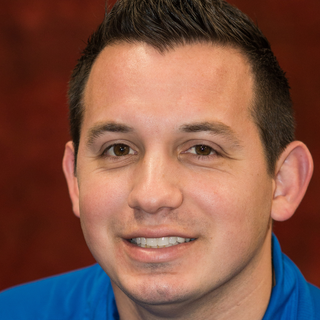eye: (173, 136, 231, 165), (94, 138, 141, 161)
